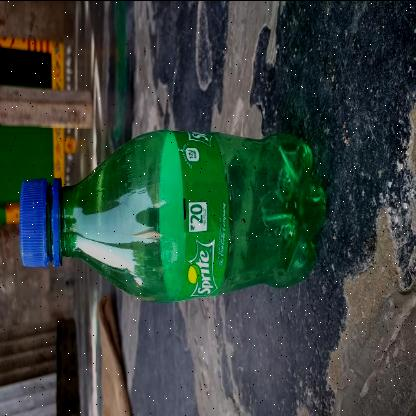Plastic Bottle: (17, 129, 326, 304)
